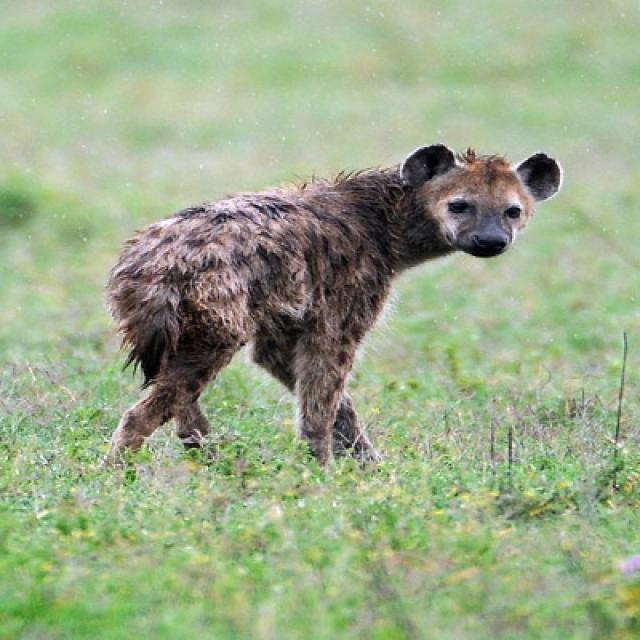hyena: (99, 144, 565, 470)
